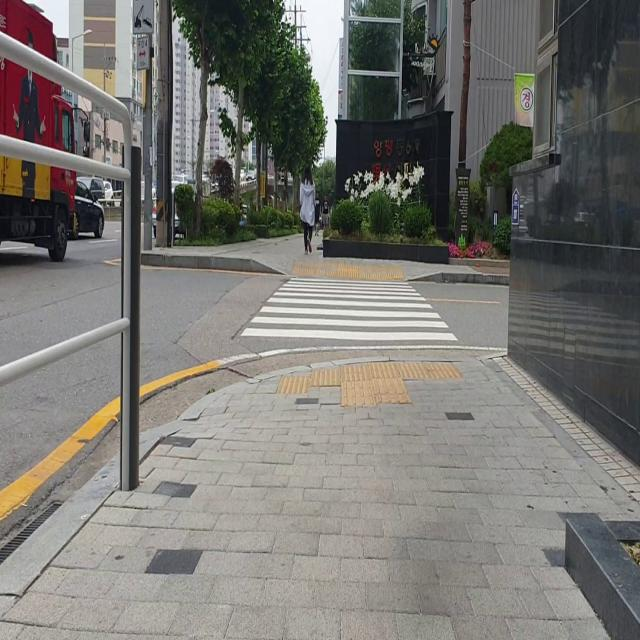횡단보도: (238, 276, 460, 342)
